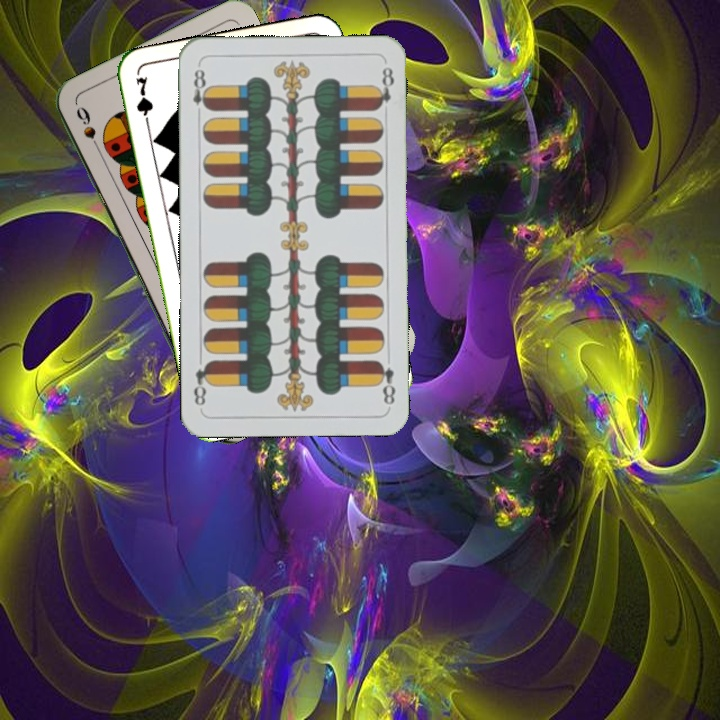E8: (189, 65, 212, 121), (373, 356, 398, 407)
G7: (131, 73, 156, 132)
S9: (72, 102, 105, 158)
